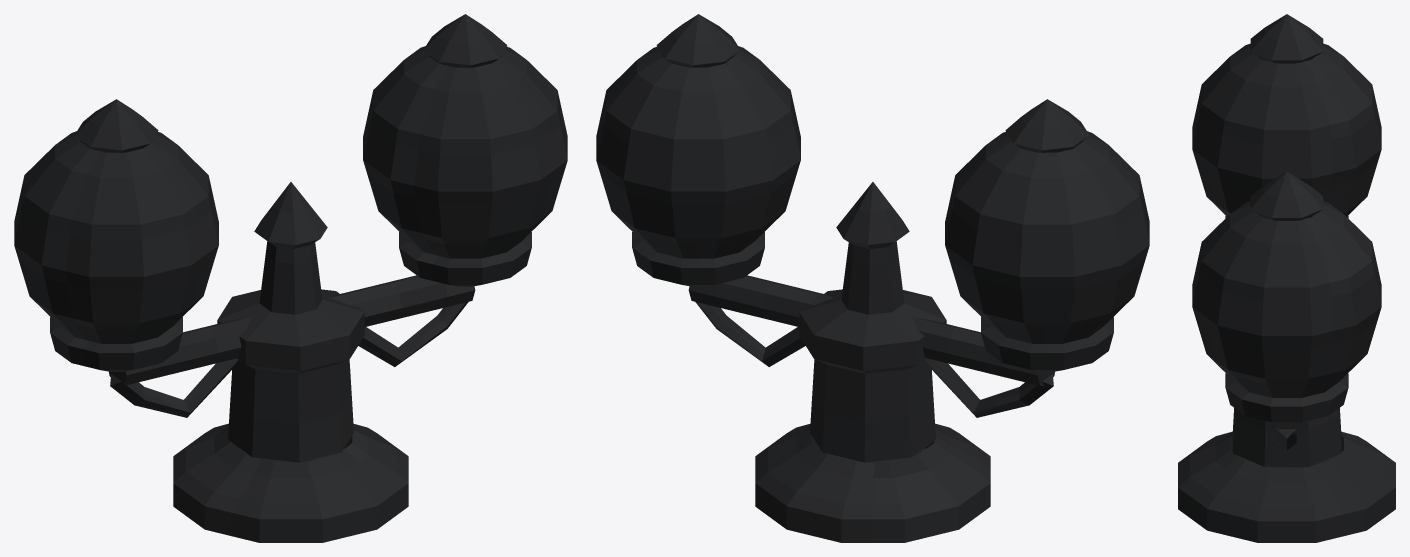
Rendered from decolight_reprotwin20_inv.obj.
3 views of the same model, side by side, from view 1: azimuth 30°, elevation 25°; view 2: azimuth 150°, elevation 25°; view 3: azimuth 270°, elevation 25° (orthographic). The views are drawn at different scales.
Visible parts, largest first — view 1: decolight_reprotwin20_inv; view 2: decolight_reprotwin20_inv; view 3: decolight_reprotwin20_inv.
Boxes of the visible parts, x1,y1,x2,y2 form: decolight_reprotwin20_inv: (14,14,567,542); decolight_reprotwin20_inv: (596,14,1149,542); decolight_reprotwin20_inv: (1178,14,1395,542).
Size of the model in its own units: 0.975 by 0.7731 by 0.3779.
